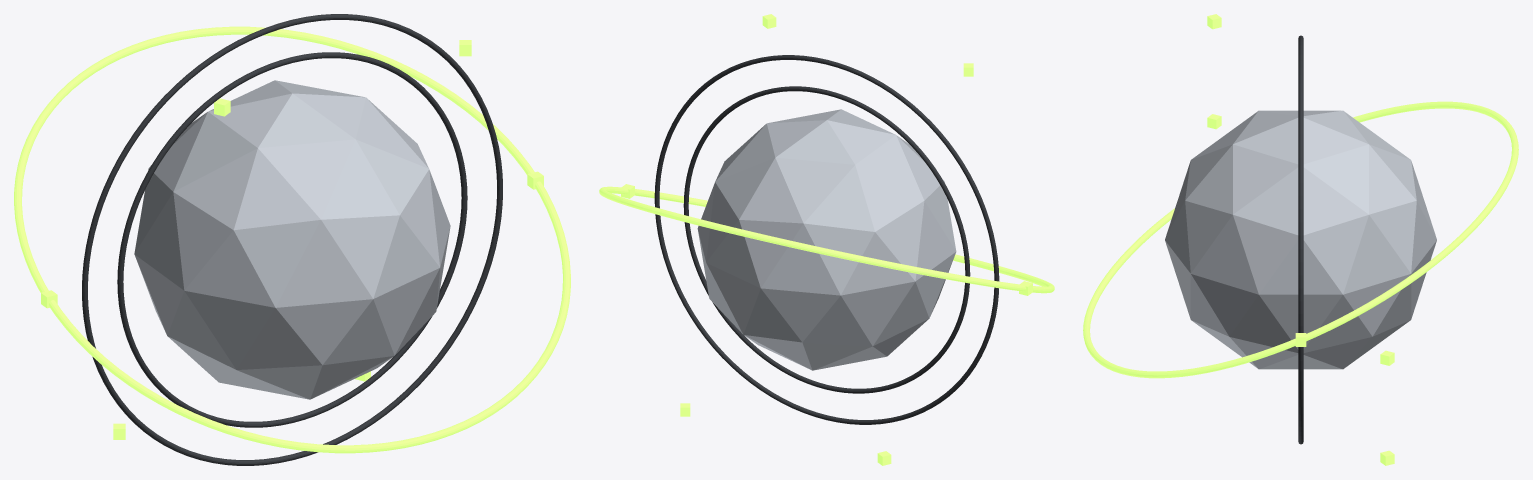
Rendered from techcore.glb.
The picture shows the model from 3 angles, left to right: view 1: azimuth 30°, elevation 25°; view 2: azimuth 150°, elevation 25°; view 3: azimuth 270°, elevation 25°; orthographic projection. The views are drawn at different scales.
Parts seen in each view (by area): view 1: TC_Shell, TC_RingC, TC_RingB, TC_RingA; view 2: TC_Shell, TC_RingB, TC_RingA, TC_RingC; view 3: TC_Shell, TC_RingC, TC_RingB.
Part boxes in pixels (box(x1,y1,x2,y2)): TC_Shell: box(134, 80, 450, 399); TC_RingC: box(14, 26, 570, 453); TC_RingB: box(82, 14, 502, 465); TC_RingA: box(117, 52, 467, 427); TC_Shell: box(697, 109, 956, 370); TC_RingB: box(654, 55, 999, 424); TC_RingA: box(683, 86, 970, 393); TC_RingC: box(599, 186, 1054, 293); TC_Shell: box(1165, 110, 1436, 369); TC_RingC: box(1083, 101, 1518, 378); TC_RingB: box(1298, 35, 1303, 444).
Size of the model in its own units: 4.19 by 3.54 by 3.78.
